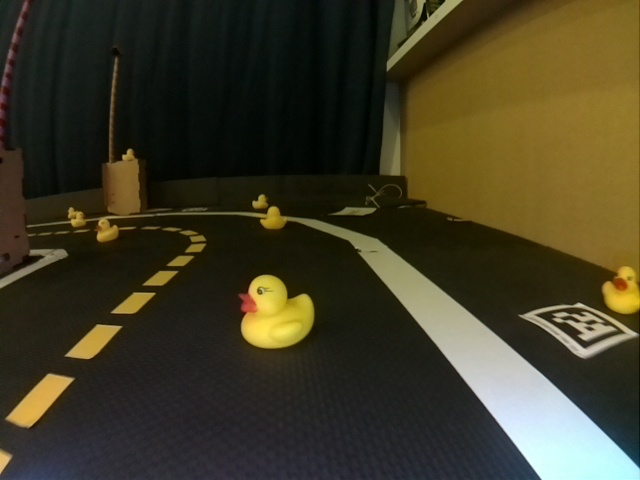Duckie: (241, 275, 310, 345), (604, 268, 634, 309), (262, 207, 287, 229), (95, 218, 118, 241), (251, 197, 269, 210), (71, 213, 85, 225), (121, 149, 133, 156)
QR code: (531, 307, 637, 357)
